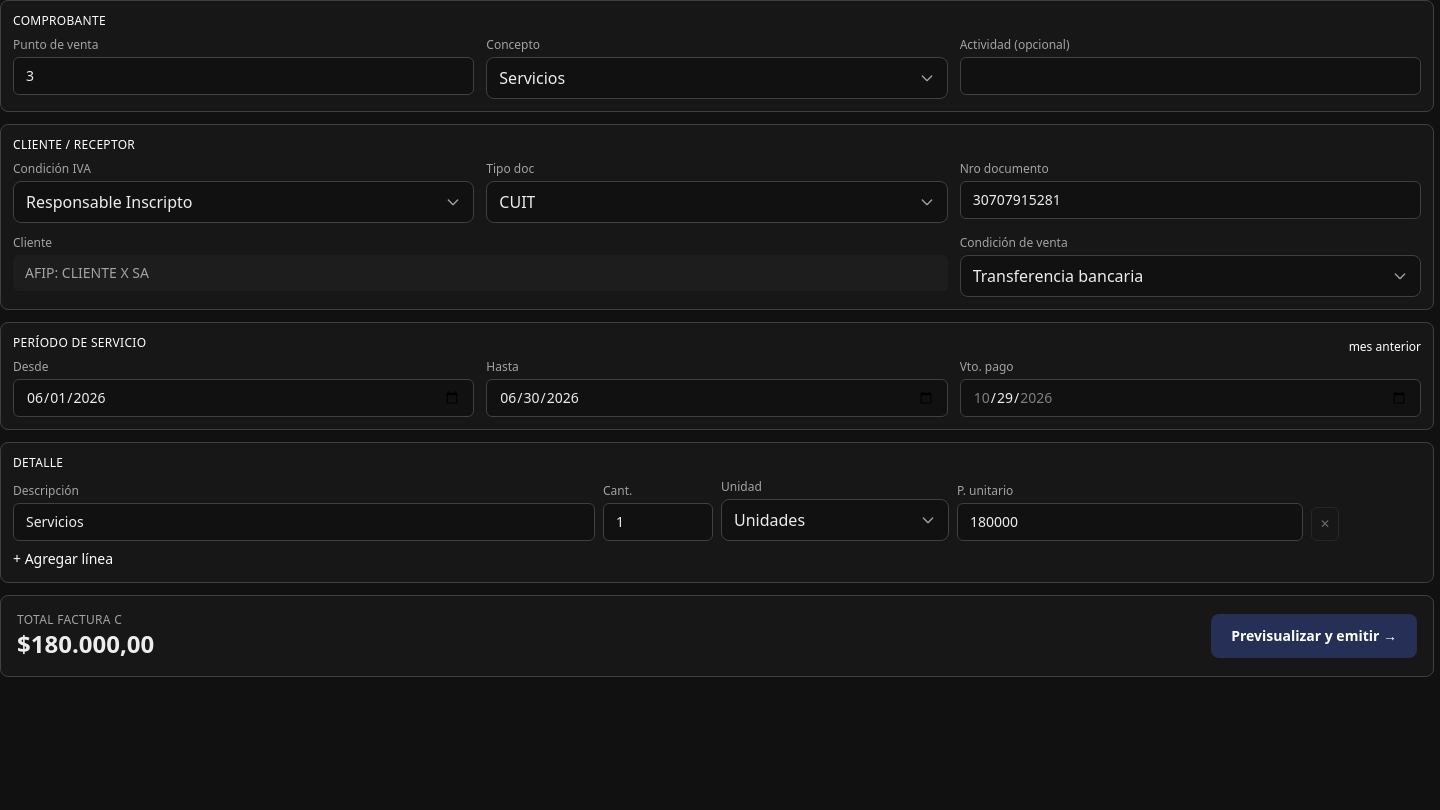
Test case: EmissionForm › bloquea y muestra el panel de errores con datos inválidos
Replace the text in the field with test id "nro-doc" with "123" at [1190, 200], box [960, 181, 1421, 219]
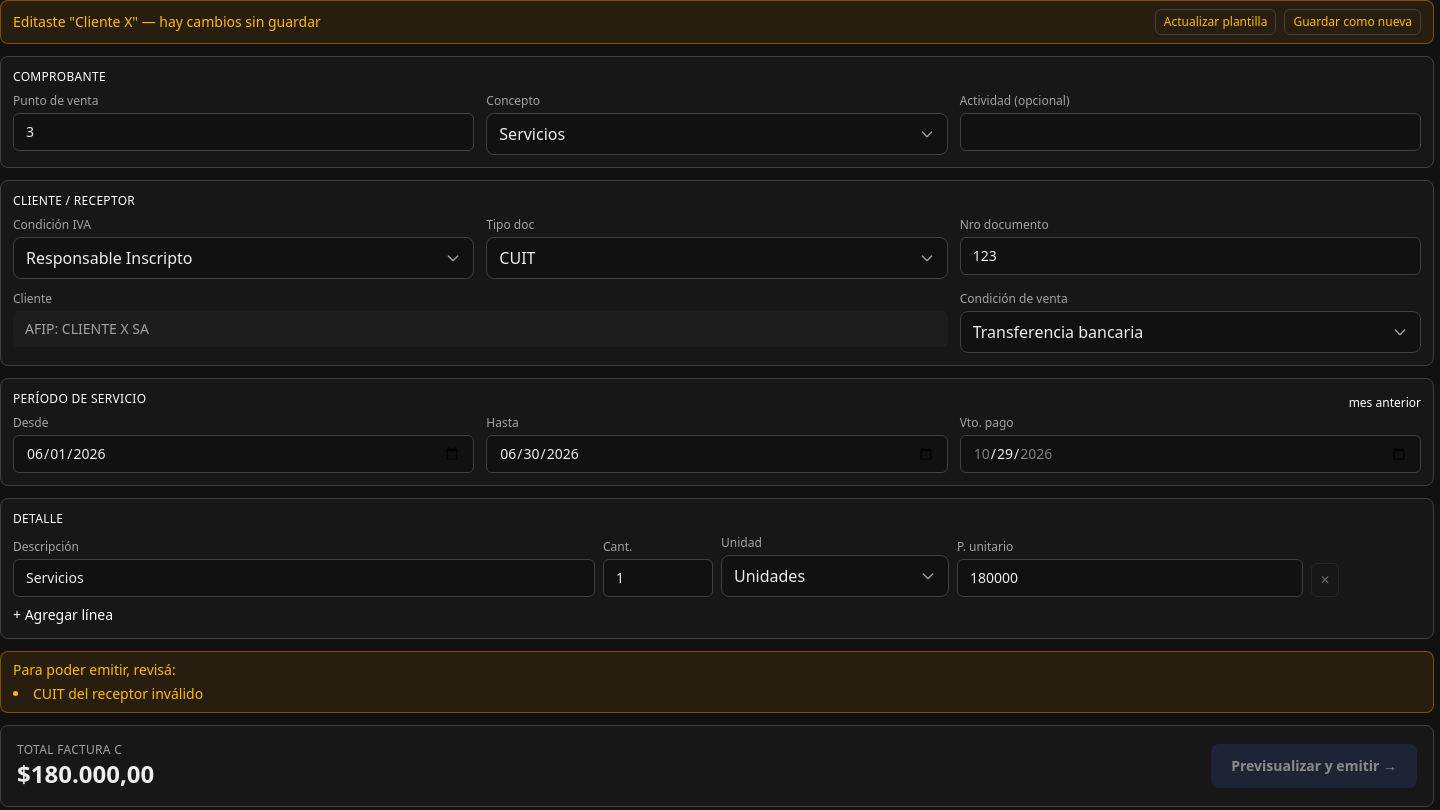
Check: the element with test id "validation-errors" is shown, box [0, 651, 1434, 713]
Check: the button "Previsualizar y emitir →" is disabled, box [1211, 744, 1417, 788]
